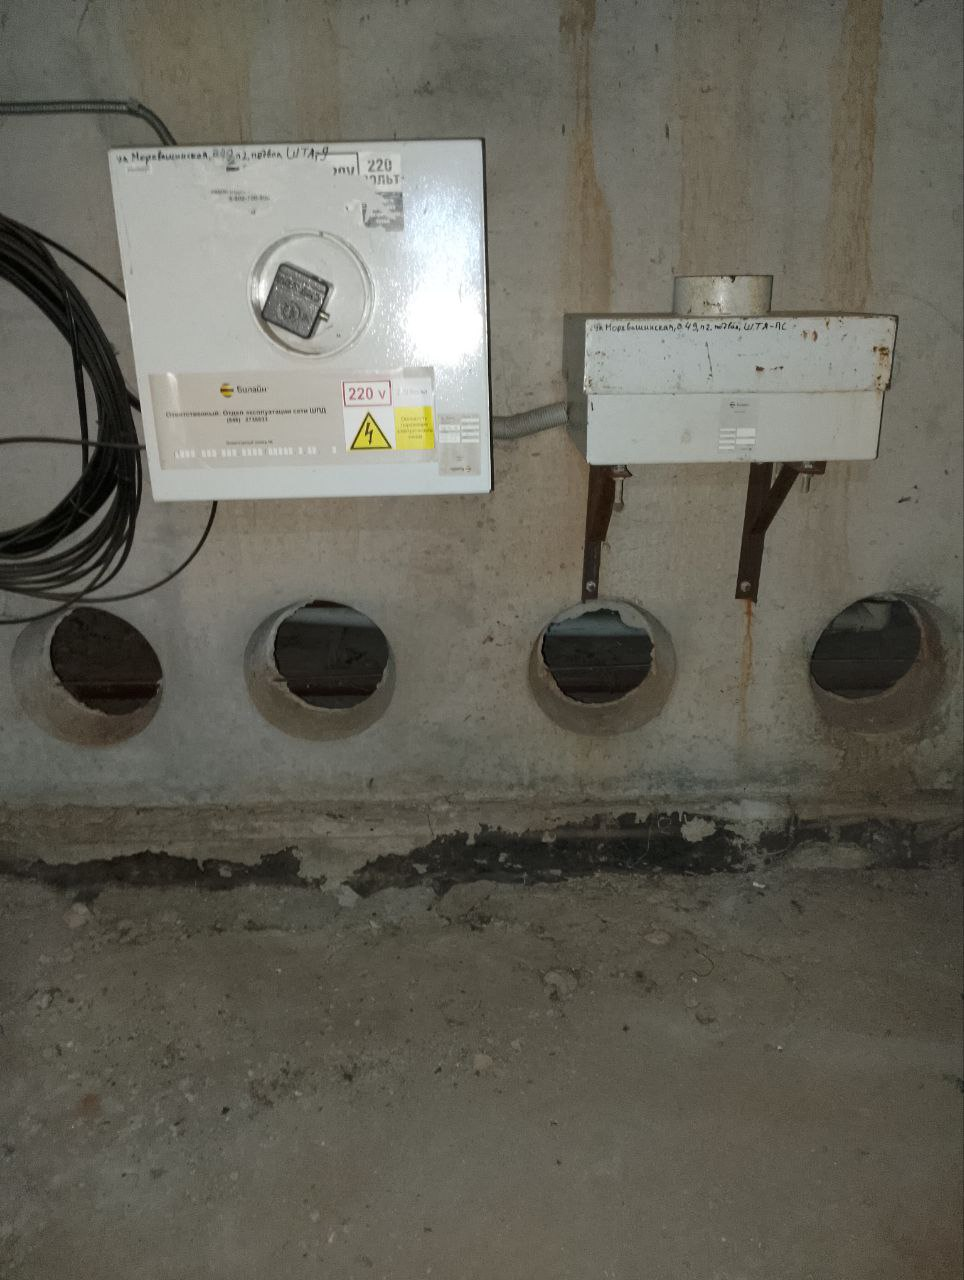shta-9: (101, 134, 494, 505)
shta-ps: (558, 272, 903, 466)
